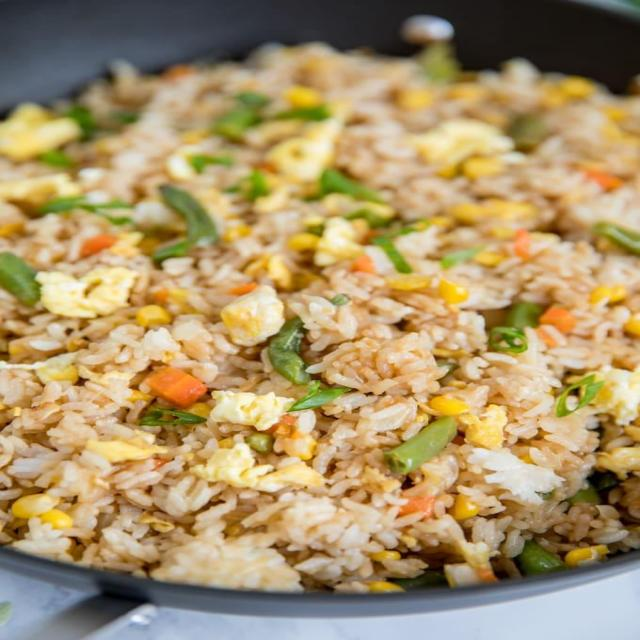Nasi Goreng: (2, 26, 637, 595)
